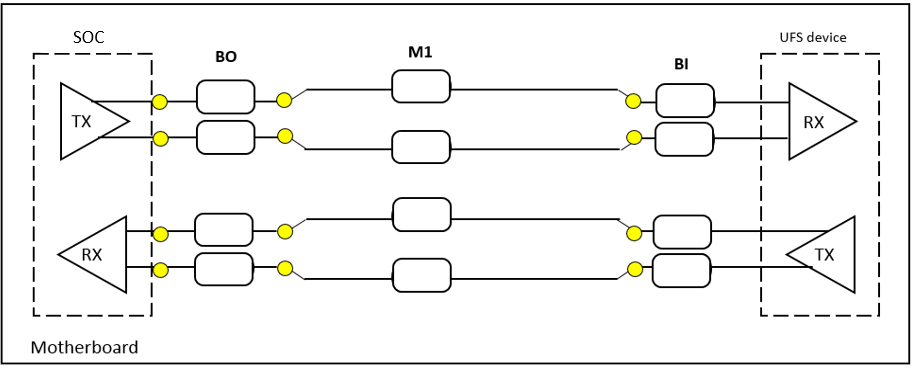circle: (274, 89, 293, 110), (274, 125, 293, 146), (274, 220, 293, 241), (276, 257, 295, 278), (623, 90, 642, 111), (624, 126, 643, 147), (624, 223, 643, 244), (624, 258, 643, 279), (150, 259, 169, 280), (151, 225, 170, 246), (152, 129, 171, 150), (150, 91, 169, 112)
dotted_rectangle: (27, 48, 156, 322), (755, 46, 884, 320)
oval: (194, 77, 258, 116), (193, 118, 257, 157), (193, 210, 257, 249), (191, 250, 255, 289), (388, 67, 452, 106), (387, 128, 451, 167), (389, 195, 453, 234), (389, 255, 453, 294), (652, 80, 716, 119), (651, 119, 715, 158), (649, 212, 713, 251), (648, 252, 712, 291)
triangle: (56, 78, 134, 164), (54, 212, 132, 298), (783, 78, 861, 164), (786, 213, 864, 299)
